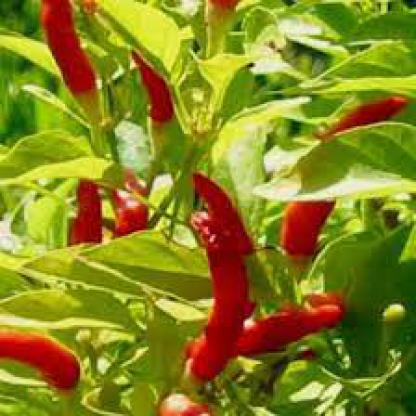chili: (175, 212, 240, 382), (37, 0, 105, 99), (243, 298, 339, 351), (124, 55, 183, 122)
